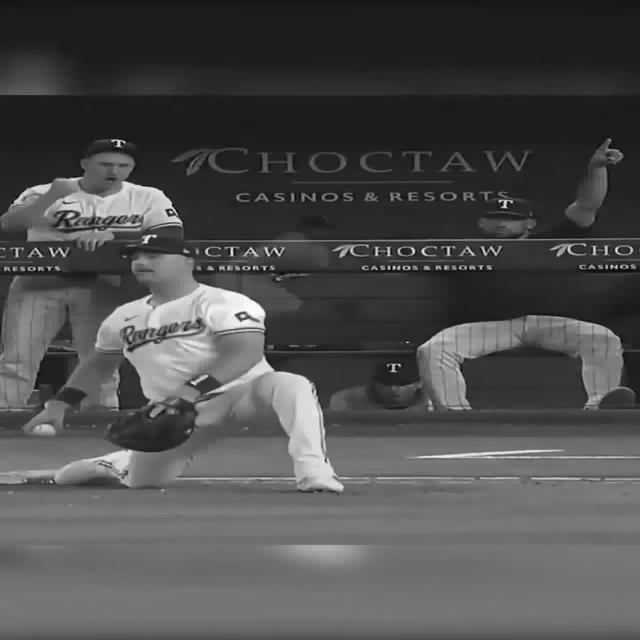base: (1, 470, 56, 485)
baseball: (33, 424, 56, 436)
baseball_glove: (107, 399, 198, 452)
shoe: (53, 450, 133, 485), (296, 475, 345, 492)
